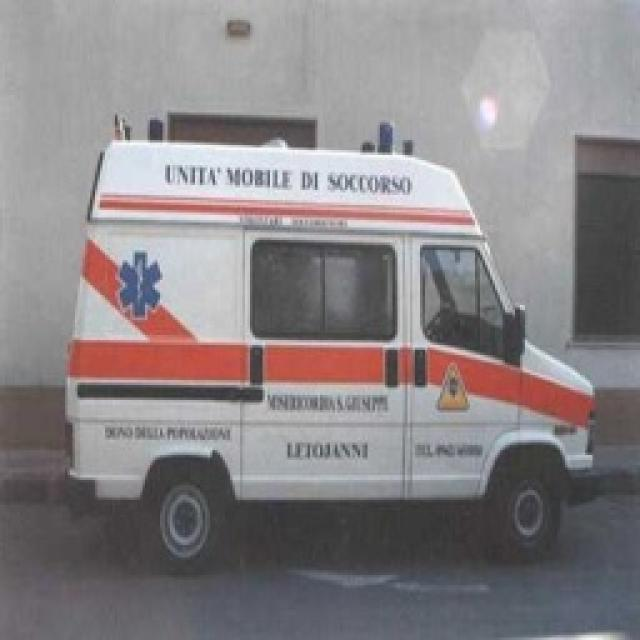emergency-vehicle: (67, 118, 599, 567)
